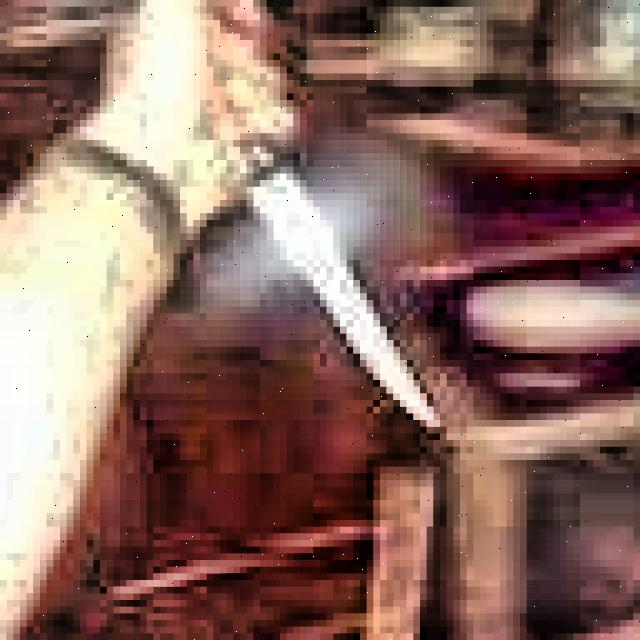knife: (215, 96, 439, 431)
